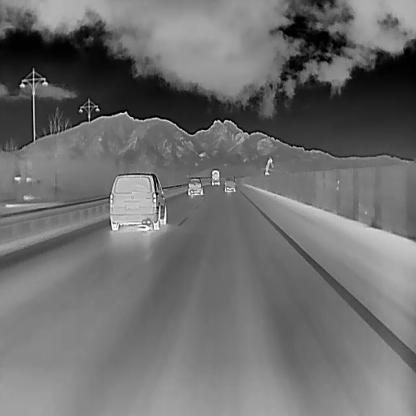car: (110, 172, 167, 229), (187, 175, 203, 196), (223, 174, 236, 192), (210, 167, 220, 185)
